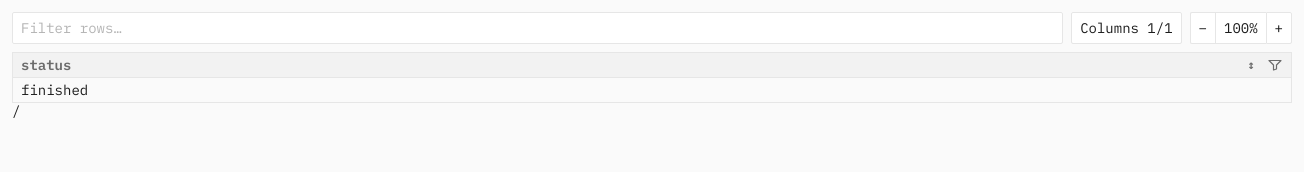
TableView › resizes a row and stores its height in the URL
Press the mouse on the element with class "row-resize" at (652, 99), box x1=13 y1=96 x2=1291 y2=102
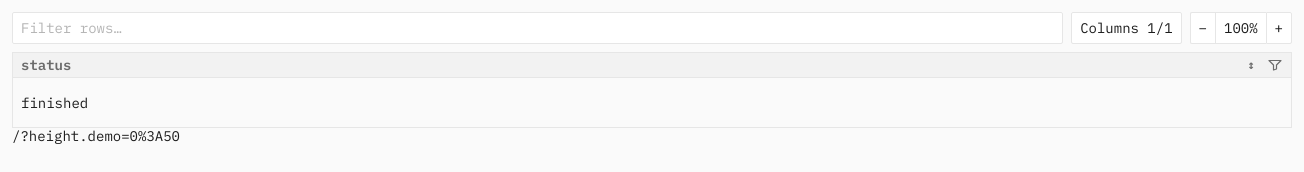
expect the text with test id "loc" shows "height.demo=0%3A50": met, box x1=12 y1=127 x2=180 y2=145
